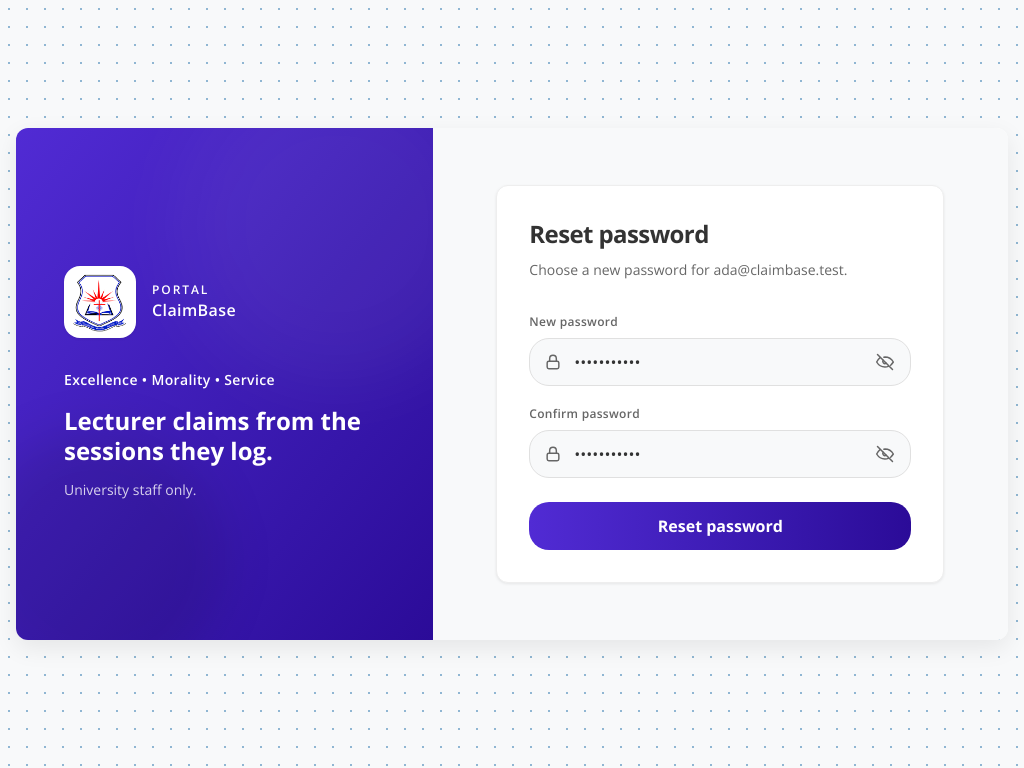
Test: ResetPasswordComponent › shows success and does not sign in
The width and height of the screenshot is (1024, 768).
What coordinates should you click on to do the following:
click the submit button
I would click on:
 (720, 526)
Its box is x1=529 y1=502 x2=911 y2=550.
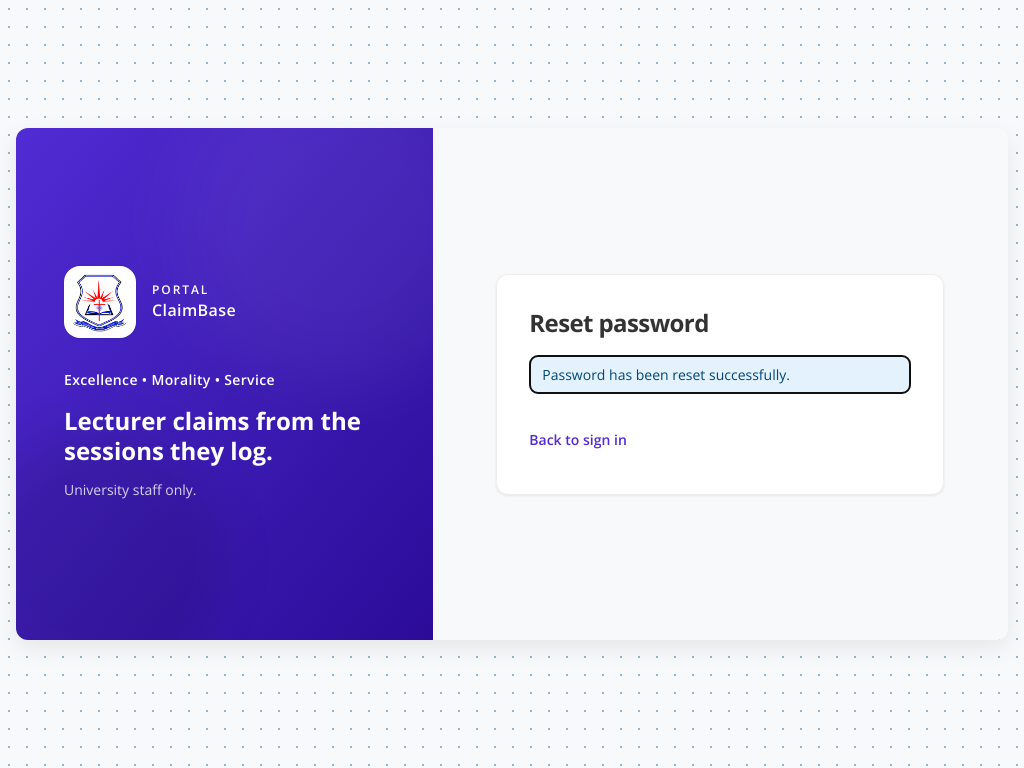
Now the message "Password has been reset successfully." is shown, box x1=529 y1=354 x2=911 y2=394
Now the link to "/login" reads "Back to sign in", box x1=529 y1=430 x2=627 y2=448
Now the password field is gone
